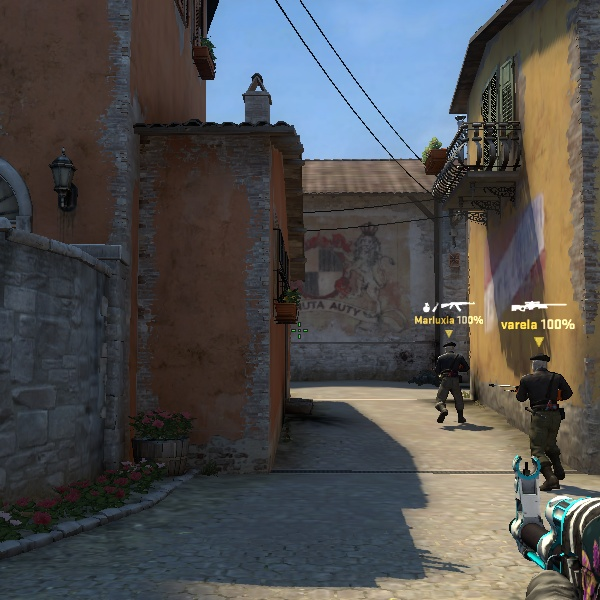ct_body: (426, 345, 473, 425)
t_body: (503, 350, 586, 492)
t_head: (524, 348, 556, 380)
